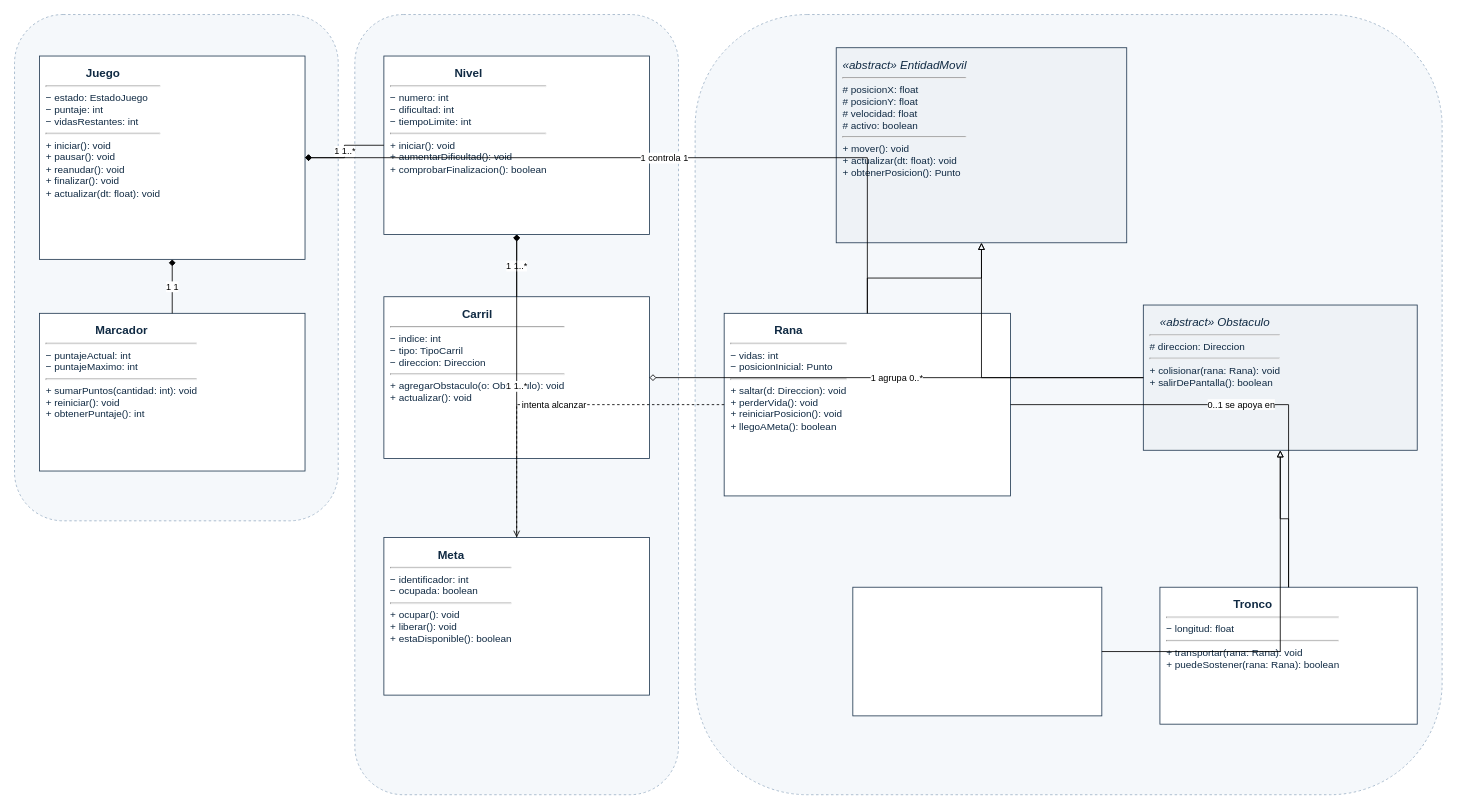
Some shapes in this 1457 by 809 pixel diagram are drawn without their labels. Each missing label, with the box of its shape:
Actores móviles: (694, 14, 1442, 795)
Escenario: (354, 14, 679, 795)
Núcleo del juego: (14, 14, 338, 521)
Vehiculo − tipo: TipoVehiculo − danio: int + atropellar(rana: Rana): void: (852, 586, 1102, 716)
